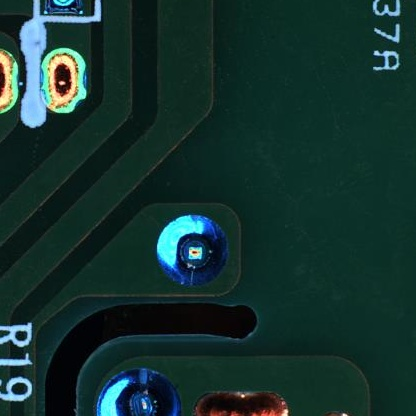spot: (156, 214, 228, 286), (94, 368, 180, 416), (41, 47, 87, 115), (1, 46, 20, 114)
